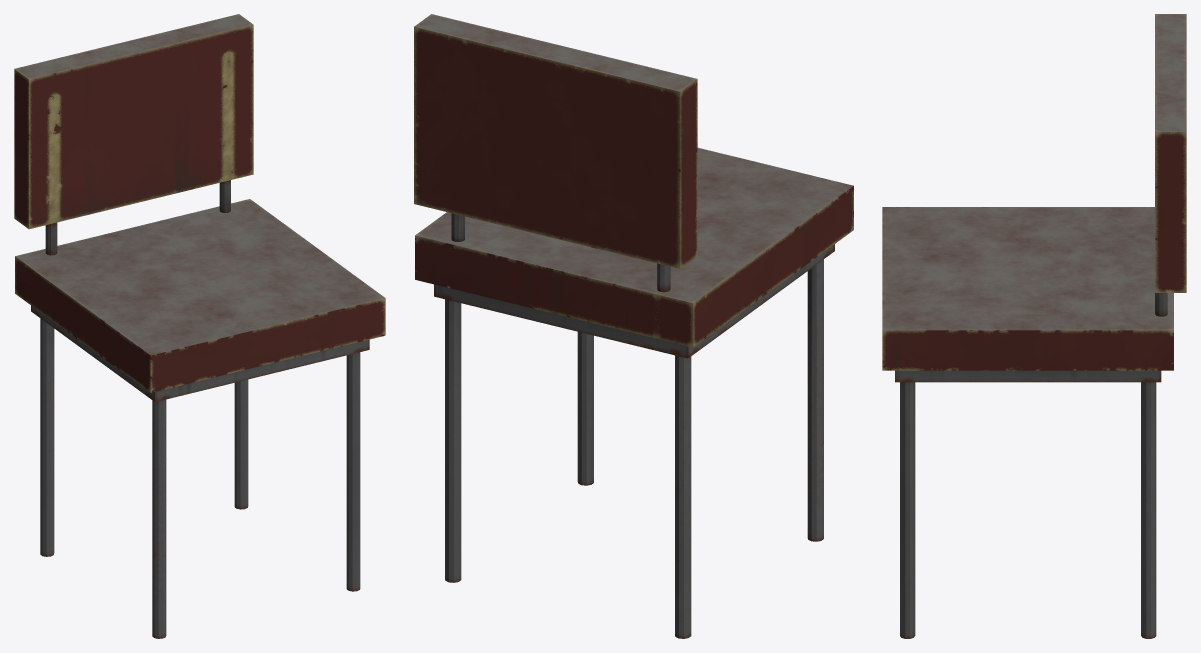
File: SM_OperatorChair.fbx
3 views of the same model, side by side, from view 1: azimuth 30°, elevation 25°; view 2: azimuth 150°, elevation 25°; view 3: azimuth 270°, elevation 25° (orthographic). The views are drawn at different scales.
Visible parts, largest first — view 1: SM_OperatorChair; view 2: SM_OperatorChair; view 3: SM_OperatorChair.
Part boxes in pixels (x1,y1,x2,y2): SM_OperatorChair: (14,14,385,638); SM_OperatorChair: (414,14,853,638); SM_OperatorChair: (882,14,1186,638).
Size of the model in its own units: 0.46 by 0.89 by 0.48.
Materials: 1 (1 with a texture image).
